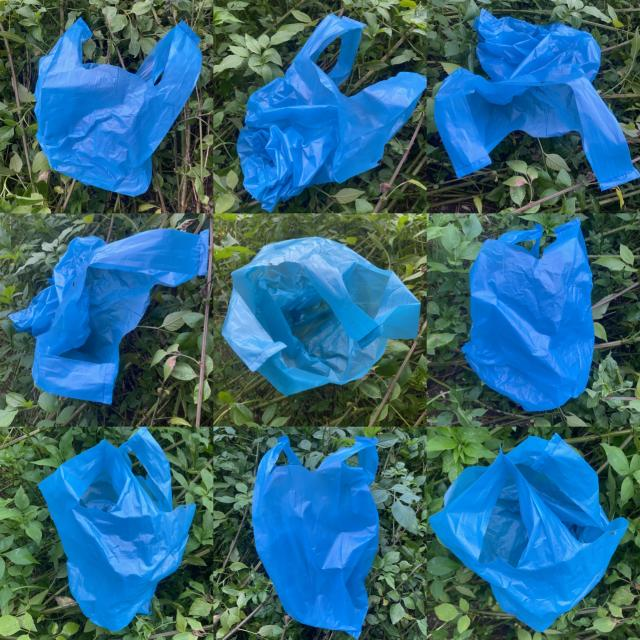Single-layer Plastic: (429, 435, 628, 631), (435, 10, 640, 190), (238, 15, 426, 211), (9, 229, 209, 404), (39, 428, 195, 631), (222, 238, 420, 395), (35, 19, 201, 196), (252, 436, 379, 638), (462, 219, 595, 411)
